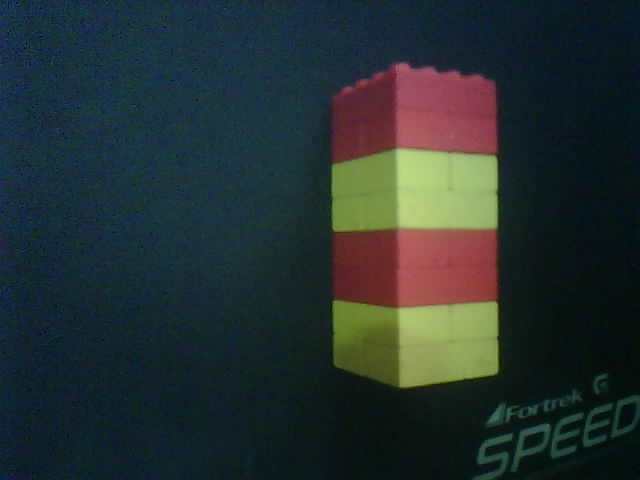lego: (326, 60, 500, 391)
